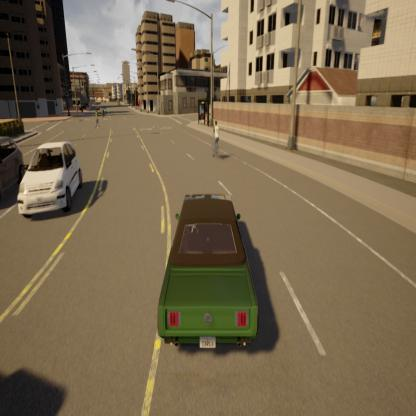Cars: (152, 188, 263, 362), (14, 137, 90, 220), (0, 134, 28, 209), (209, 115, 221, 160)
Pedestrian: (94, 109, 101, 129)
